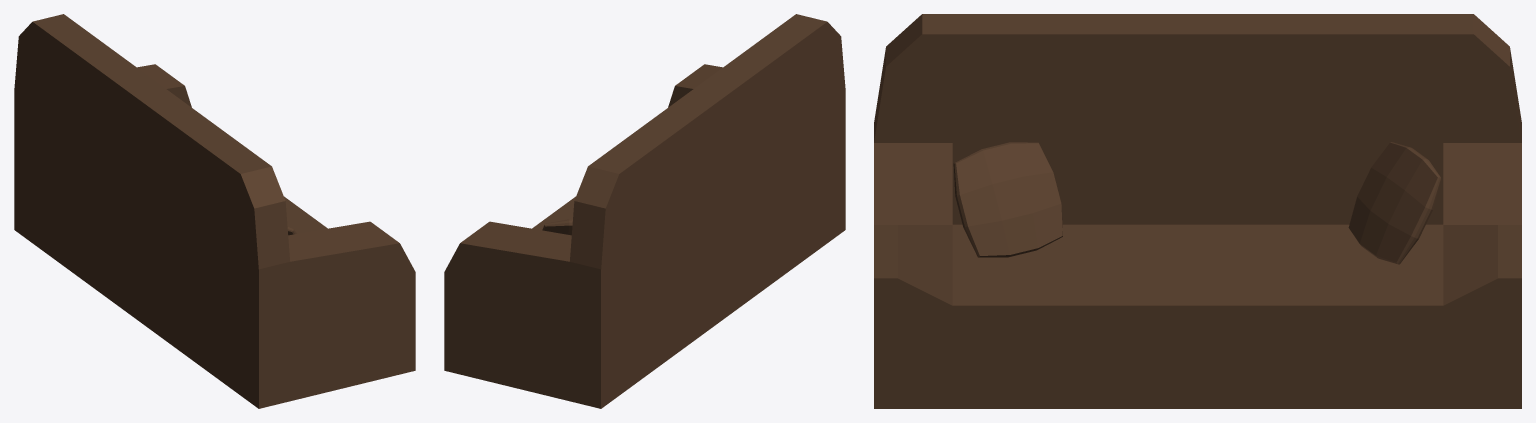
Rendered from Sofa_LowPoly.glb.
The picture shows the model from 3 angles, left to right: view 1: azimuth 30°, elevation 25°; view 2: azimuth 150°, elevation 25°; view 3: azimuth 270°, elevation 25°; orthographic projection. The views are drawn at different scales.
Parts seen in each view (by area): view 1: Cube_0; view 2: Cube_0, Plane.001_0; view 3: Cube_0, Plane_0, Plane.001_0.
Part boxes in pixels (bbox=[...]): Cube_0: bbox=[14, 14, 415, 408]; Cube_0: bbox=[444, 14, 845, 408]; Plane.001_0: bbox=[542, 219, 572, 235]; Cube_0: bbox=[874, 14, 1521, 408]; Plane_0: bbox=[953, 142, 1062, 257]; Plane.001_0: bbox=[1348, 142, 1441, 264].
Size of the model in its own units: 2 by 2.7 by 5.4.
